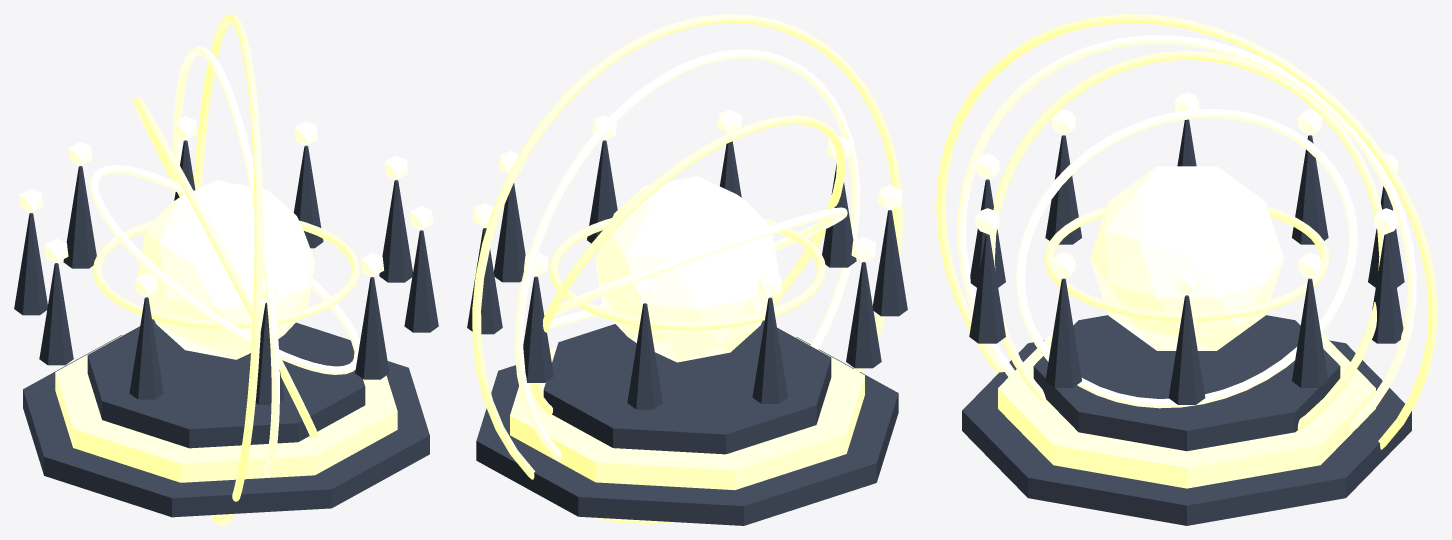
The model's file is gpu-blender-v7.glb.
3 views of the same model, side by side, from view 1: azimuth 30°, elevation 25°; view 2: azimuth 150°, elevation 25°; view 3: azimuth 270°, elevation 25° (orthographic). The views are drawn at different scales.
Visible parts, largest first — view 1: Cylinder.002, Cylinder, SovereignCore_pod-margin-sentinel, Cylinder.001, Torus.004, Torus.003, Torus.001, Torus, Torus.002, Cone.004, Cone.008, Cone.005 (+6 smaller); view 2: Cylinder.002, SovereignCore_pod-margin-sentinel, Cylinder, Cylinder.001, Torus.004, Torus.003, Torus.002, Torus, Torus.001, Cone.005, Cone.003, Cone.006 (+7 smaller); view 3: SovereignCore_pod-margin-sentinel, Cylinder.002, Cylinder, Cylinder.001, Torus.004, Torus.003, Torus.001, Torus.002, Torus, Cone, Cone.008, Cone.001 (+7 smaller).
Part boxes in pixels (bbox=[...]): Cylinder.002: bbox=[87, 319, 365, 448]; Cylinder: bbox=[23, 335, 429, 517]; SovereignCore_pod-margin-sentinel: bbox=[137, 180, 315, 359]; Cylinder.001: bbox=[55, 326, 397, 482]; Torus.004: bbox=[194, 14, 263, 525]; Torus.003: bbox=[173, 46, 279, 475]; Torus.001: bbox=[90, 165, 360, 374]; Torus: bbox=[93, 220, 359, 328]; Torus.002: bbox=[133, 97, 318, 437]; Cone.004: bbox=[14, 213, 47, 315]; Cone.008: bbox=[355, 277, 389, 379]; Cone.005: bbox=[39, 263, 73, 365]; Cylinder.002: bbox=[543, 320, 831, 454]; SovereignCore_pod-margin-sentinel: bbox=[595, 176, 779, 362]; Cylinder: bbox=[476, 337, 898, 525]; Cylinder.001: bbox=[510, 328, 864, 490]; Torus.004: bbox=[472, 14, 902, 524]; Torus.003: bbox=[514, 49, 860, 461]; Torus.002: bbox=[530, 115, 845, 415]; Torus: bbox=[549, 218, 825, 330]; Torus.001: bbox=[544, 207, 847, 328]; Cone.005: bbox=[846, 262, 881, 368]; Cone.003: bbox=[627, 303, 662, 409]; Cone.006: bbox=[873, 210, 907, 316]; SovereignCore_pod-margin-sentinel: bbox=[1090, 166, 1283, 350]; Cylinder.002: bbox=[1033, 315, 1340, 451]; Cylinder: bbox=[962, 340, 1411, 525]; Cylinder.001: bbox=[998, 332, 1375, 488]; Torus.004: bbox=[936, 14, 1437, 449]; Torus.003: bbox=[957, 35, 1416, 432]; Torus.001: bbox=[1016, 109, 1357, 408]; Torus.002: bbox=[988, 50, 1385, 431]; Torus: bbox=[1044, 206, 1329, 321]; Cone: bbox=[1168, 295, 1205, 404]; Cone.008: bbox=[969, 234, 1005, 343]; Cone.001: bbox=[1292, 278, 1328, 387].
Size of the model in its own units: 4.41 by 5.33 by 4.9.
